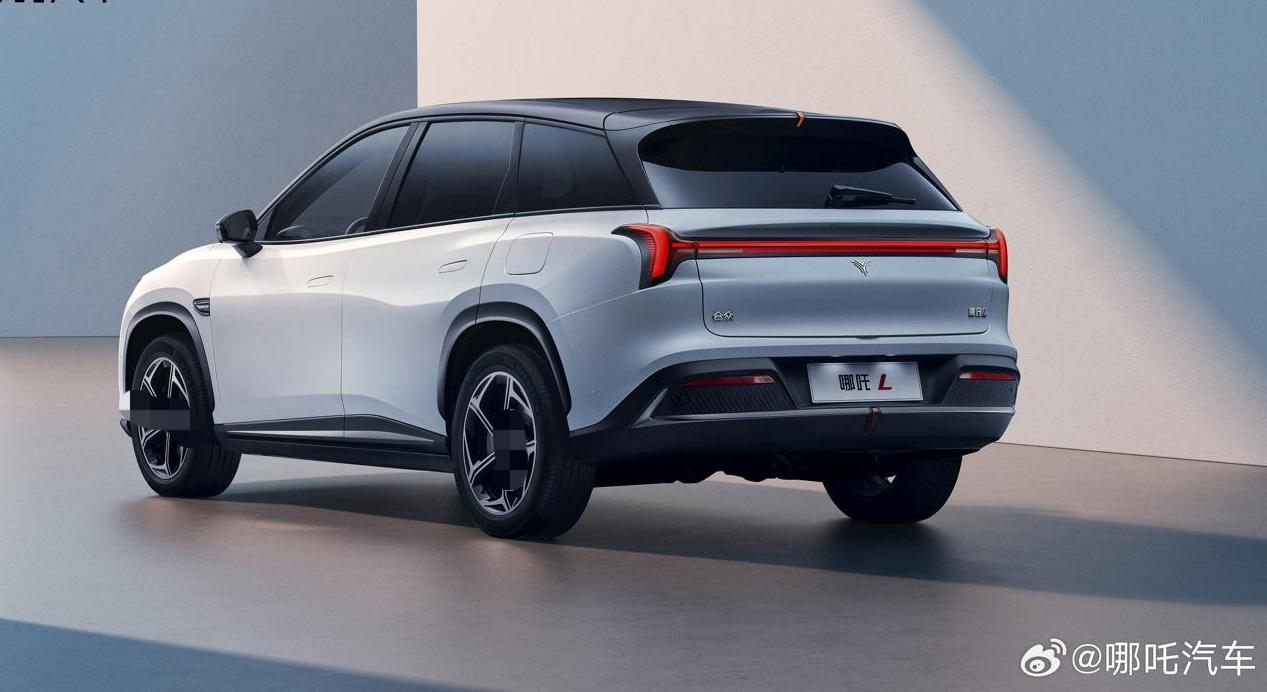NETA: (849, 257, 872, 280)
